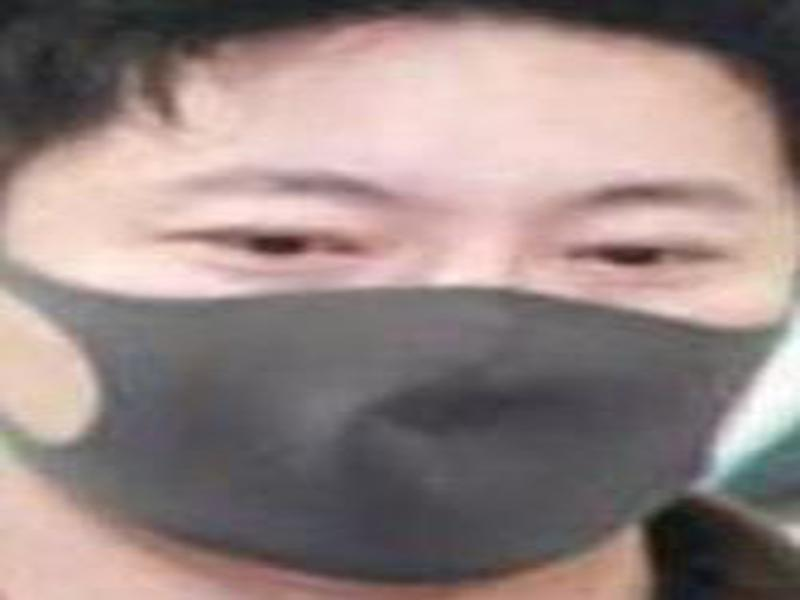with_mask: (2, 4, 796, 592)
